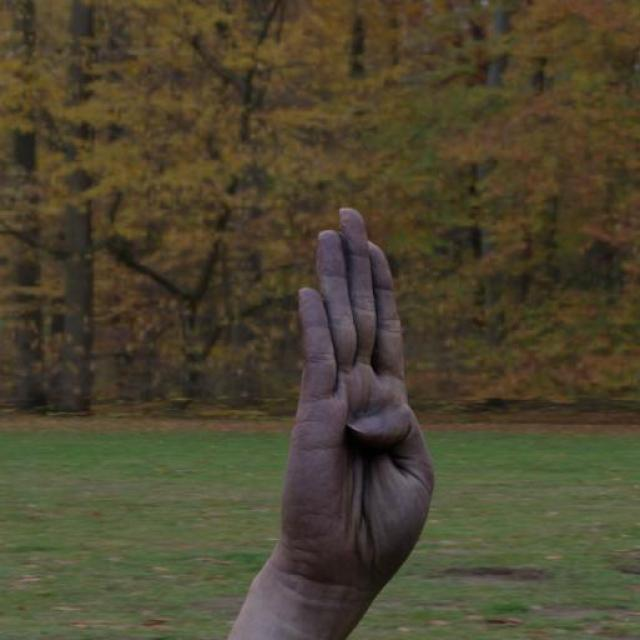B: (291, 214, 435, 585)
